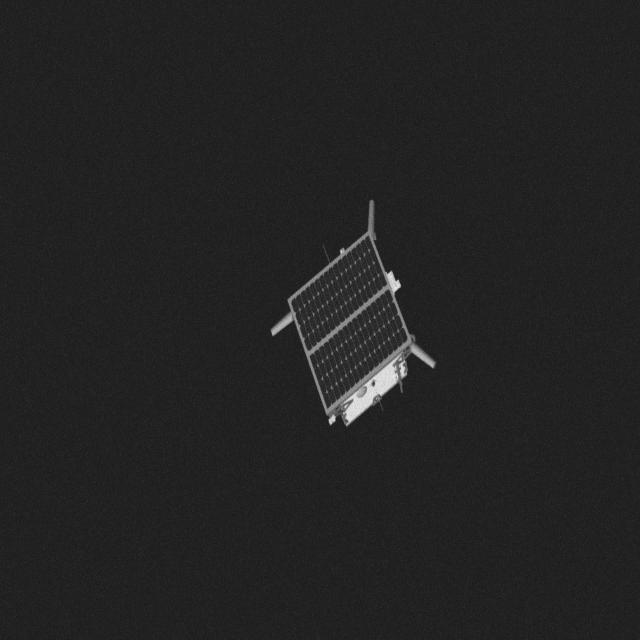satellite: (264, 204, 440, 428)
